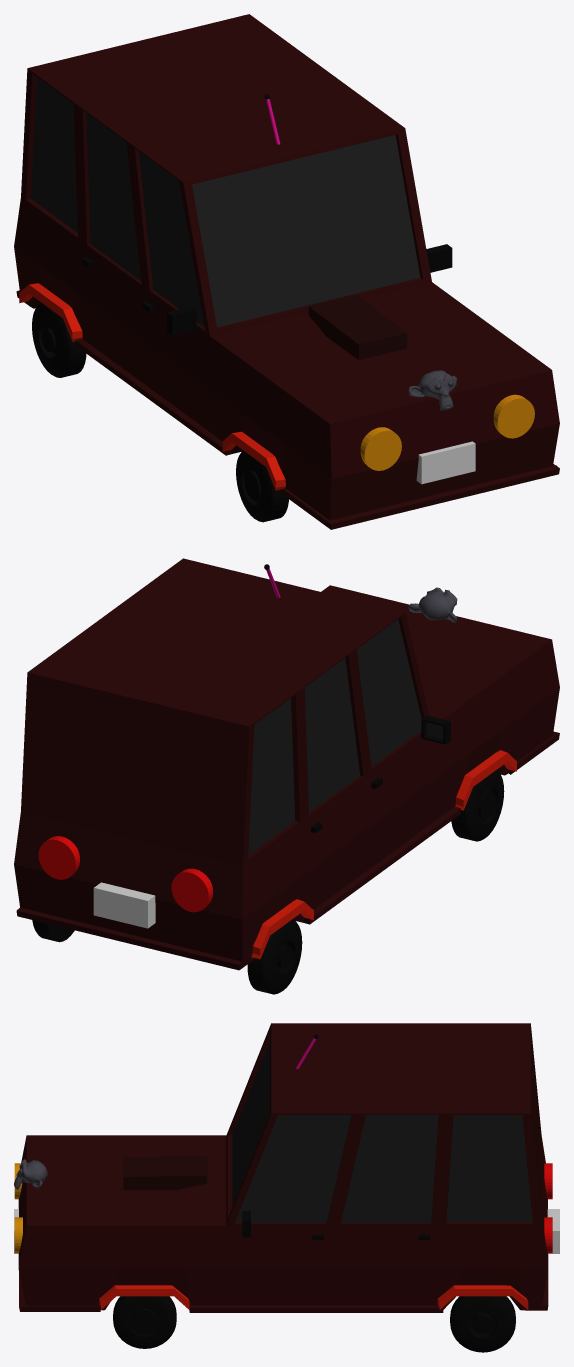
3 views of the same model, one above another, from view 1: azimuth 30°, elevation 25°; view 2: azimuth 150°, elevation 25°; view 3: azimuth 270°, elevation 25° (orthographic). The views are drawn at different scales.
Visible parts, largest first — view 1: Cube, Cube.013_Cube.018, Cylinder.002, Cylinder.001, Cube.007_Cube.016, Cylinder.007, Cylinder.006, Cube.001, Cube.002, Suzanne, Cube.004; view 2: Cube, Cylinder.002, Cylinder.001, Cube.008_Cube.017, Cylinder.009, Cylinder.008, Cube.001, Cube.002, Suzanne, Cube.004; view 3: Cube, Cylinder.002, Cylinder.001, Cube.013_Cube.018, Cube.002, Cube.001, Suzanne.
Part boxes in pixels (x1,y1,x2,y2): Cube: (14,14,559,529); Cube.013_Cube.018: (308,294,407,359); Cylinder.002: (32,302,86,377); Cylinder.001: (236,450,288,522); Cube.007_Cube.016: (416,441,475,484); Cylinder.007: (493,394,534,438); Cylinder.006: (360,427,401,470); Cube.001: (222,431,285,490); Cube.002: (19,283,82,341); Suzanne: (408,370,457,410); Cube.004: (167,306,196,335); Cube: (14,558,559,970); Cylinder.002: (32,919,302,994); Cylinder.001: (451,770,504,841); Cube.008_Cube.017: (93,882,155,928); Cylinder.009: (171,868,212,912); Cylinder.008: (38,836,79,879); Cube.001: (455,750,516,810); Cube.002: (251,899,313,959); Suzanne: (408,587,457,622); Cube.004: (421,715,450,744); Cube: (18,1023,548,1312); Cylinder.002: (450,1296,515,1352); Cylinder.001: (113,1296,176,1348); Cube.013_Cube.018: (123,1156,207,1190); Cube.002: (437,1285,528,1309); Cube.001: (99,1285,189,1309); Suzanne: (14,1159,47,1189).
Bounding box in the file's own units: 5.77 × 6.42 × 11.7.
